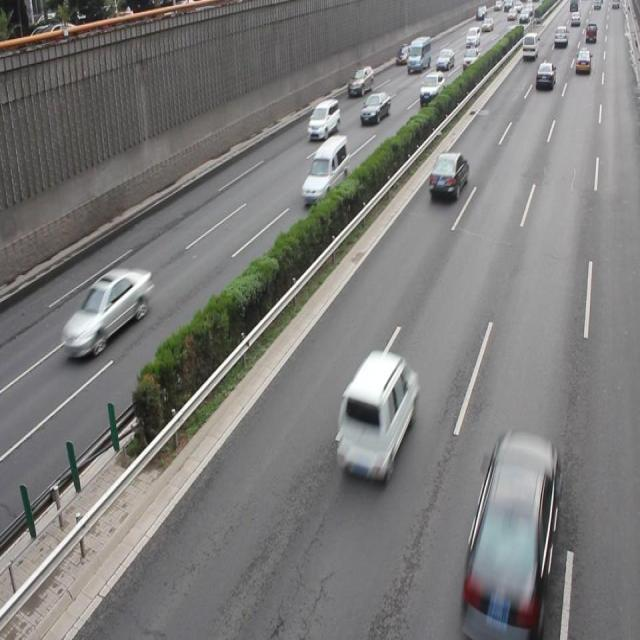car: (463, 429, 559, 640), (62, 263, 153, 358), (428, 149, 469, 201), (358, 91, 391, 126)
truck: (337, 350, 418, 482), (302, 136, 348, 202), (306, 97, 338, 138)
